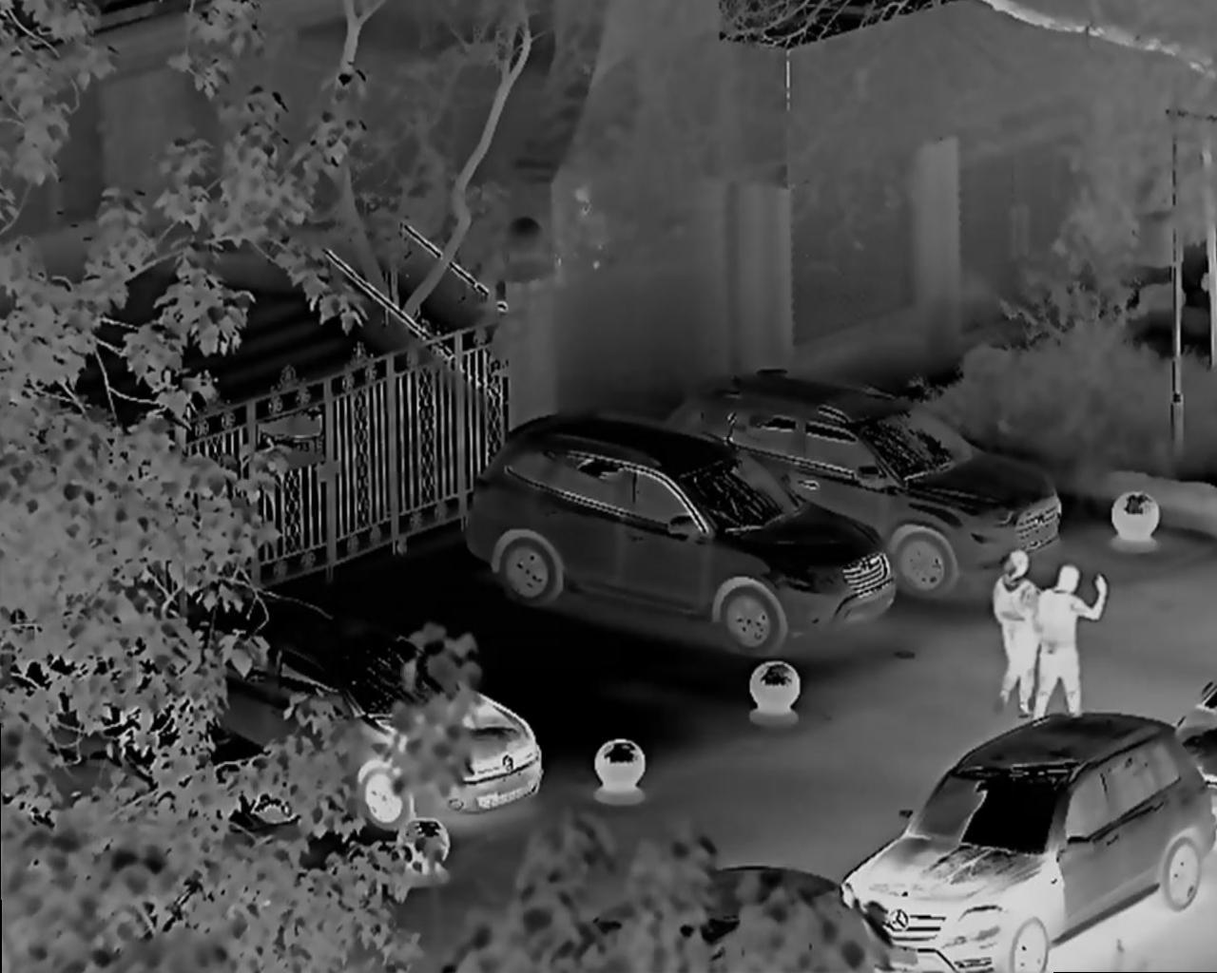person: (1038, 550, 1111, 739), (987, 544, 1044, 723)
